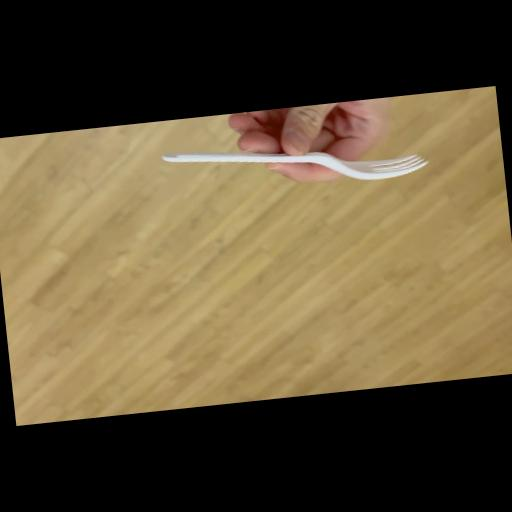utensil: (158, 120, 428, 206)
